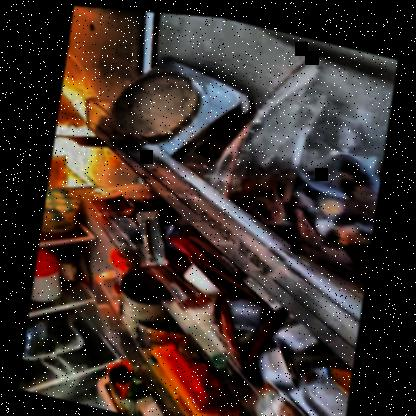butter: (139, 329, 245, 415)
dates: (222, 121, 382, 275)
milk: (130, 389, 178, 415)
salami: (105, 59, 205, 154)
yoghurt: (41, 185, 83, 239)
